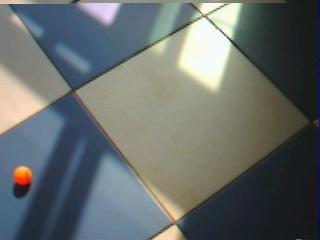oball: (13, 167, 33, 186)
